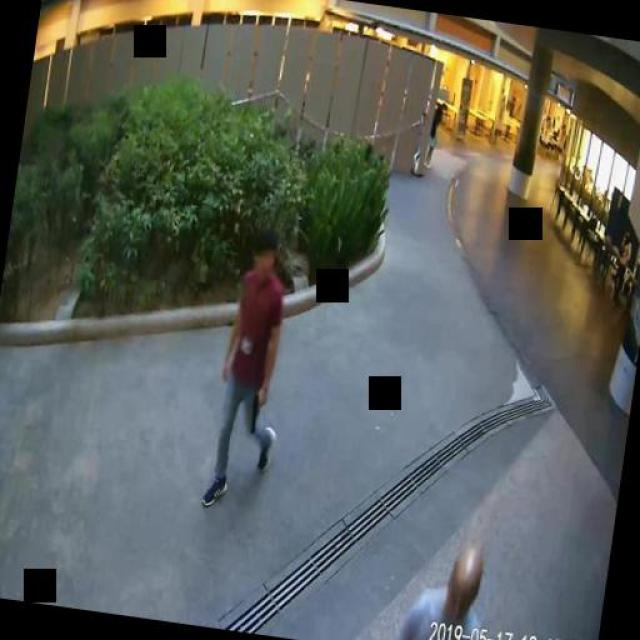gun: (246, 388, 266, 432)
